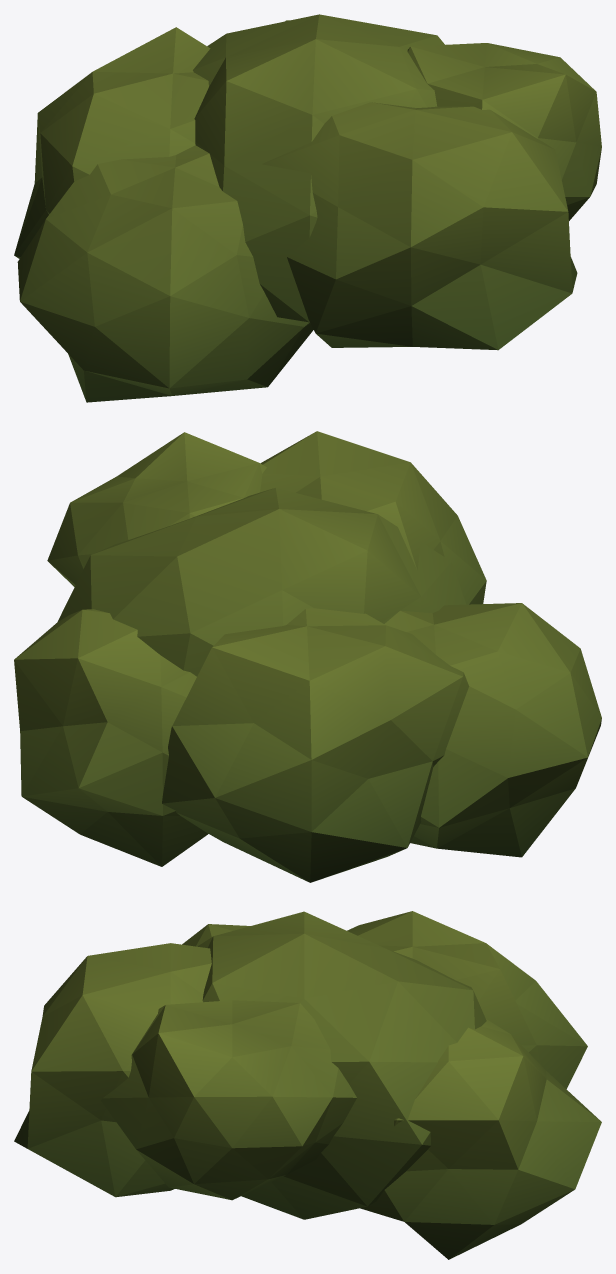
File: copa-tipica-c.glb
The picture shows the model from 3 angles, top to bottom: view 1: azimuth 30°, elevation 25°; view 2: azimuth 150°, elevation 25°; view 3: azimuth 270°, elevation 25°; orthographic projection. The views are drawn at different scales.
Parts seen in each view (by area): view 1: copa-tipica-c; view 2: copa-tipica-c; view 3: copa-tipica-c.
Part boxes in pixels (x1=…): copa-tipica-c: x1=14, y1=14, x2=601, y2=402; copa-tipica-c: x1=14, y1=431, x2=601, y2=882; copa-tipica-c: x1=14, y1=911, x2=601, y2=1259.
Size of the model in its own units: 4.82 by 2.56 by 4.79.
